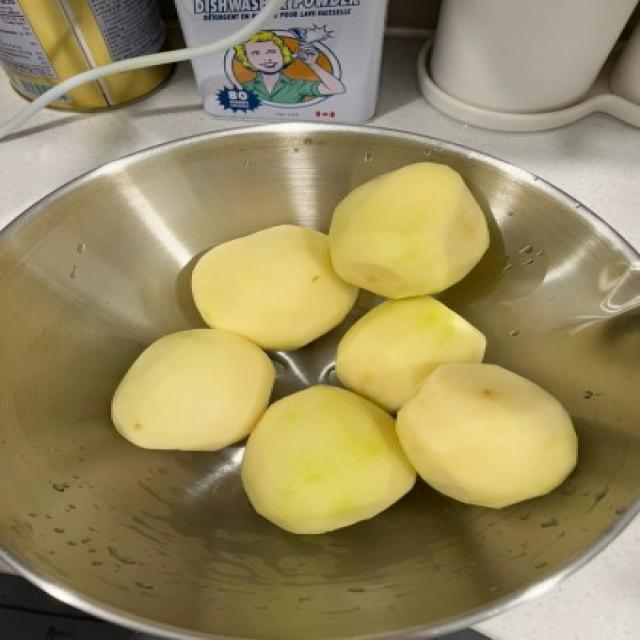potato: (394, 358, 584, 509), (245, 381, 426, 537), (185, 218, 359, 354), (110, 325, 278, 456), (328, 160, 490, 295), (333, 287, 486, 407)
